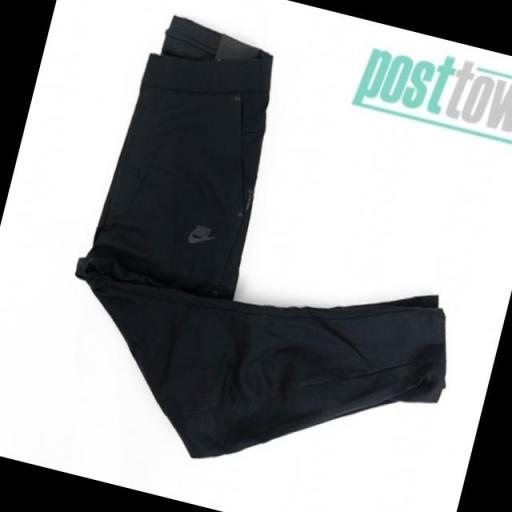Nike: (186, 232, 211, 248), (191, 223, 213, 240)
